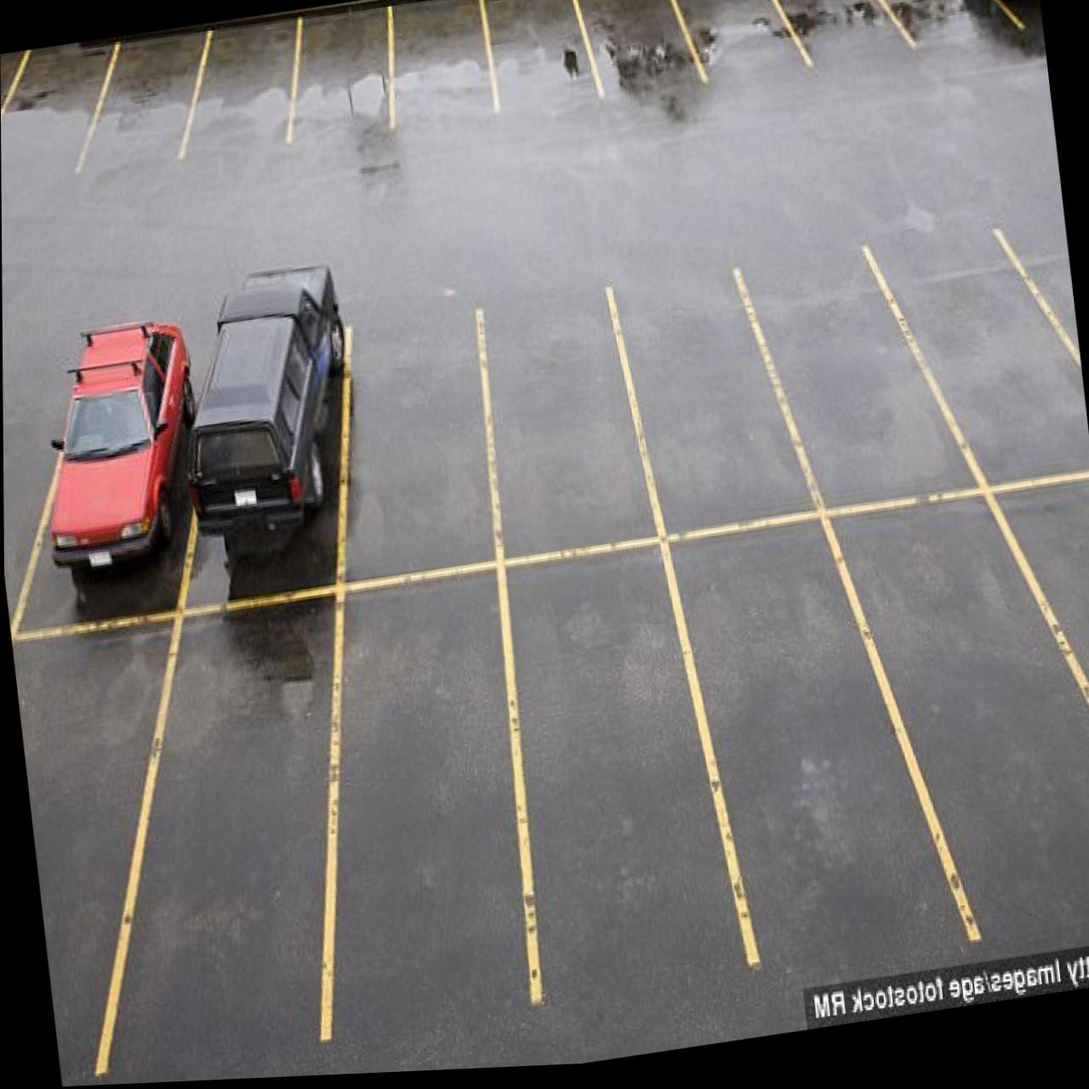cars: (181, 285, 361, 605), (42, 338, 203, 605)
empty: (78, 564, 388, 1079), (302, 551, 562, 1030), (833, 466, 1089, 927), (478, 525, 734, 962), (675, 488, 915, 949), (9, 591, 224, 1066), (610, 232, 814, 539), (895, 166, 1089, 484), (752, 224, 965, 512), (333, 276, 514, 599), (472, 263, 668, 561), (88, 25, 212, 200), (175, 13, 309, 174), (0, 38, 119, 198), (288, 0, 405, 154), (378, 0, 491, 136), (479, 0, 601, 122), (575, 0, 689, 105), (676, 0, 795, 96), (767, 0, 881, 80), (859, 0, 990, 63)
